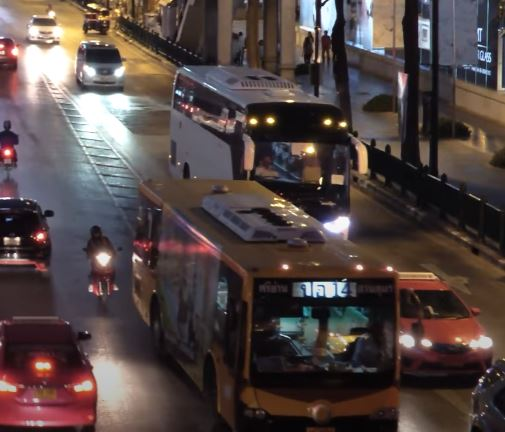Bus: (131, 178, 400, 432), (169, 64, 351, 243)
Car: (1, 314, 99, 432), (397, 271, 496, 384), (1, 197, 55, 276), (75, 40, 126, 92), (27, 13, 60, 46)
Motorcycle: (81, 222, 123, 309), (1, 118, 20, 176)
